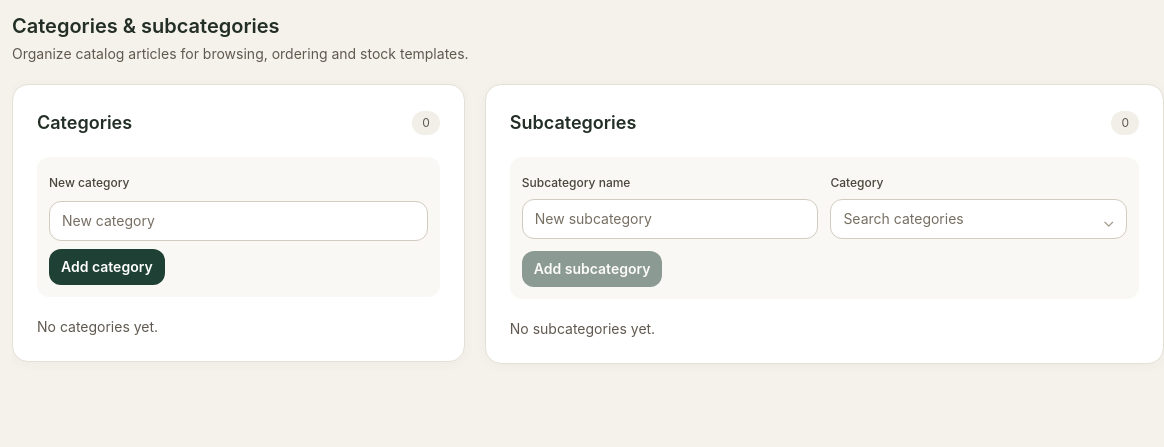
Test: acknowledges a saved create when only the subsequent refresh fails
Expected: the text "No categories yet." is shown, [37, 318, 158, 335]
Step 1. Type "Saved category" into the field with placeholder "New category" → [238, 221], box [49, 201, 428, 241]
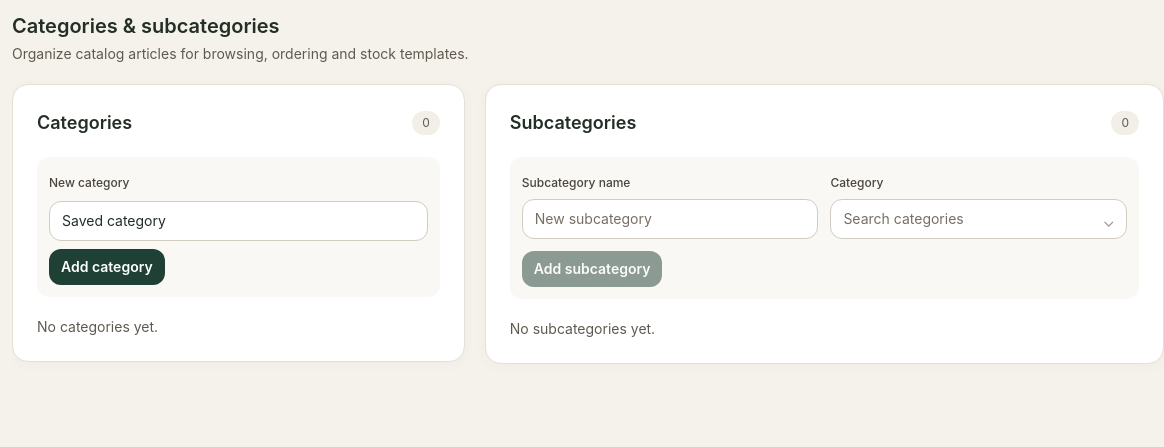
Step 2. Click the button "Add category" → [107, 267], box [49, 249, 165, 285]
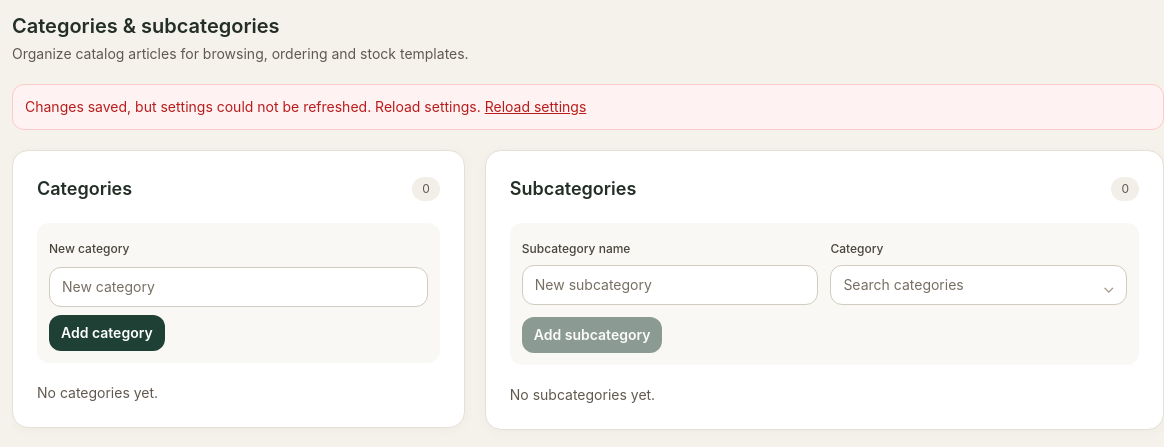
Now the text "Changes saved, but settings could not be refreshed" is shown, box [25, 98, 481, 115]
Now the field with placeholder "New category" is empty, box [49, 267, 428, 307]
